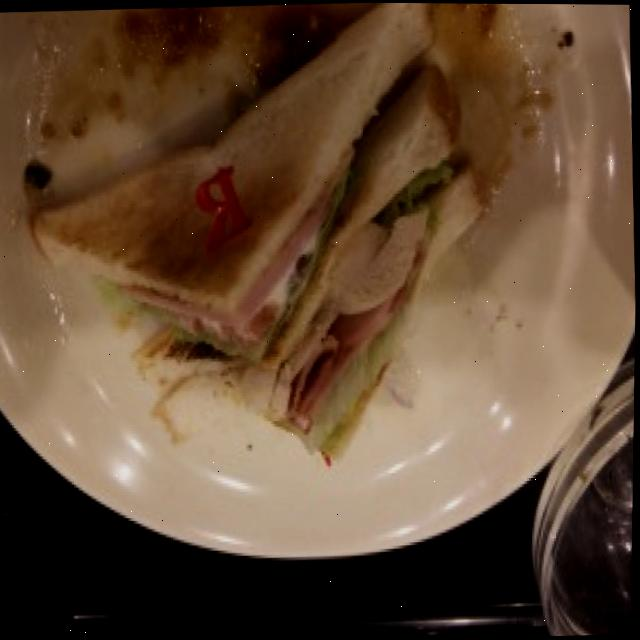三明治: (5, 0, 538, 467)
